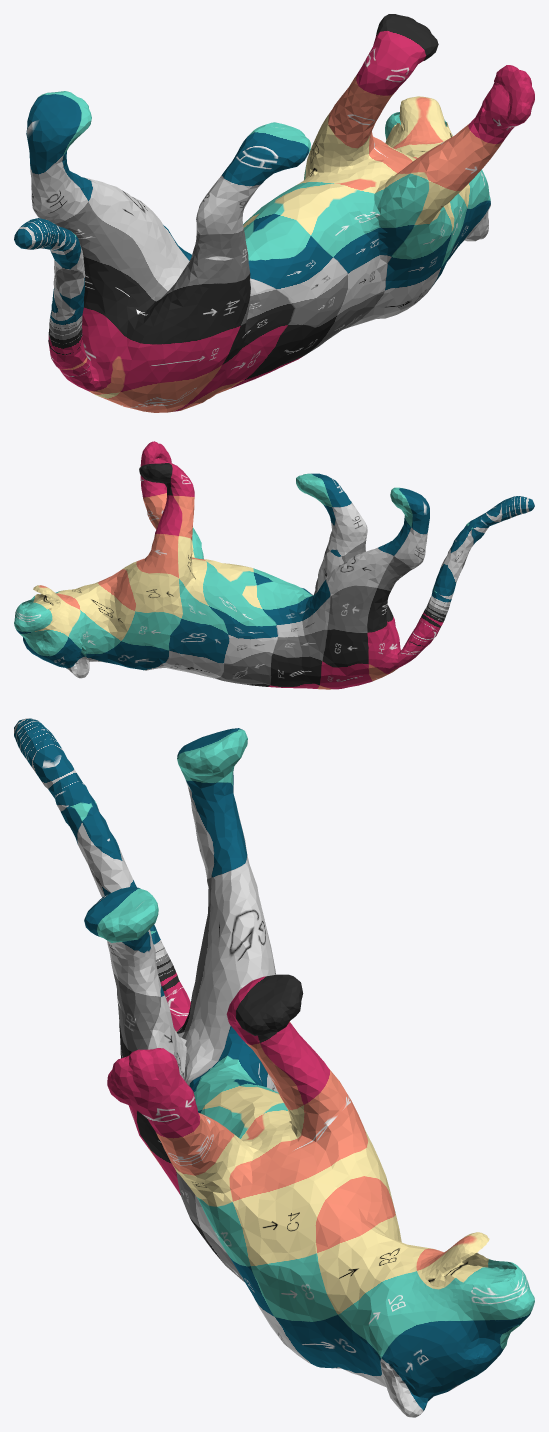
Rendered from hippo_05-cougar_04.obj.
The picture shows the model from 3 angles, top to bottom: view 1: azimuth 30°, elevation 25°; view 2: azimuth 150°, elevation 25°; view 3: azimuth 270°, elevation 25°; orthographic projection. The views are drawn at different scales.
Visible parts, largest first — view 1: hippo_05-cougar_04_export; view 2: hippo_05-cougar_04_export; view 3: hippo_05-cougar_04_export.
Boxes of the visible parts, x1,y1,x2,y2 form: hippo_05-cougar_04_export: (14, 14, 534, 412); hippo_05-cougar_04_export: (14, 441, 534, 689); hippo_05-cougar_04_export: (14, 718, 534, 1417).
Size of the model in its own units: 1.06 by 0.5502 by 0.6287.
